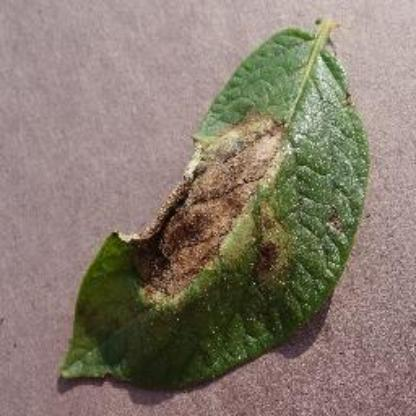Late-Blight: (42, 13, 372, 400)
